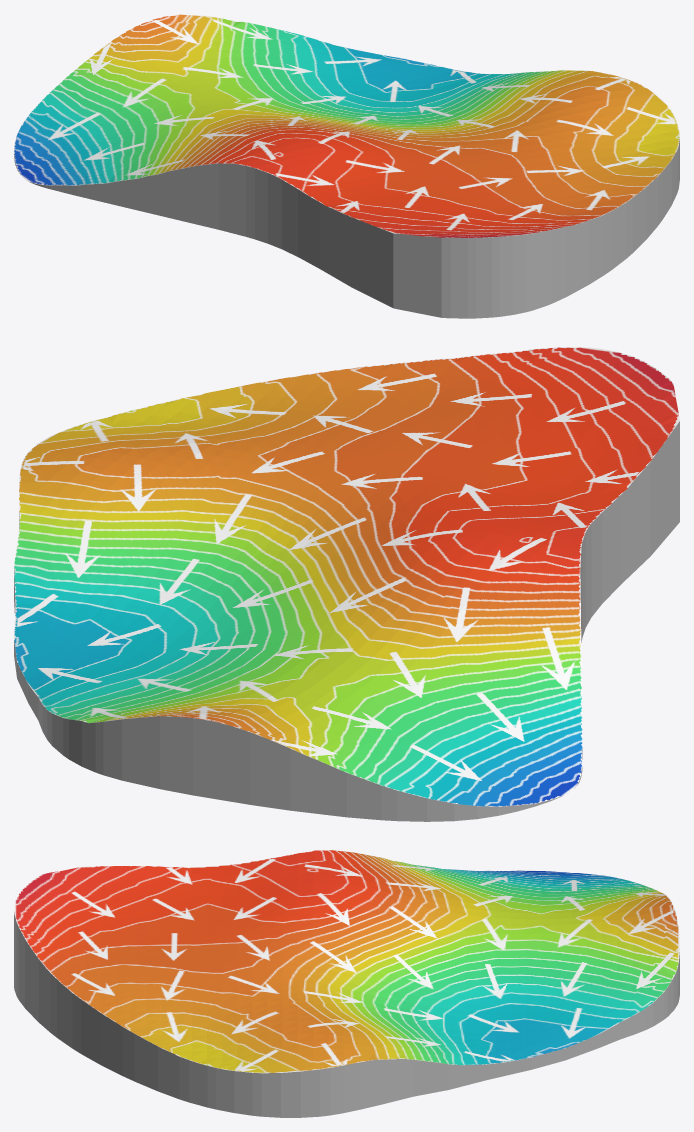
3 views of the same model, one above another, from view 1: azimuth 30°, elevation 25°; view 2: azimuth 150°, elevation 25°; view 3: azimuth 270°, elevation 25° (orthographic). The views are drawn at different scales.
Bounding box in the file's own units: 3.65 × 0.55 × 4.16.
Materials: 2 (1 with a texture image).
